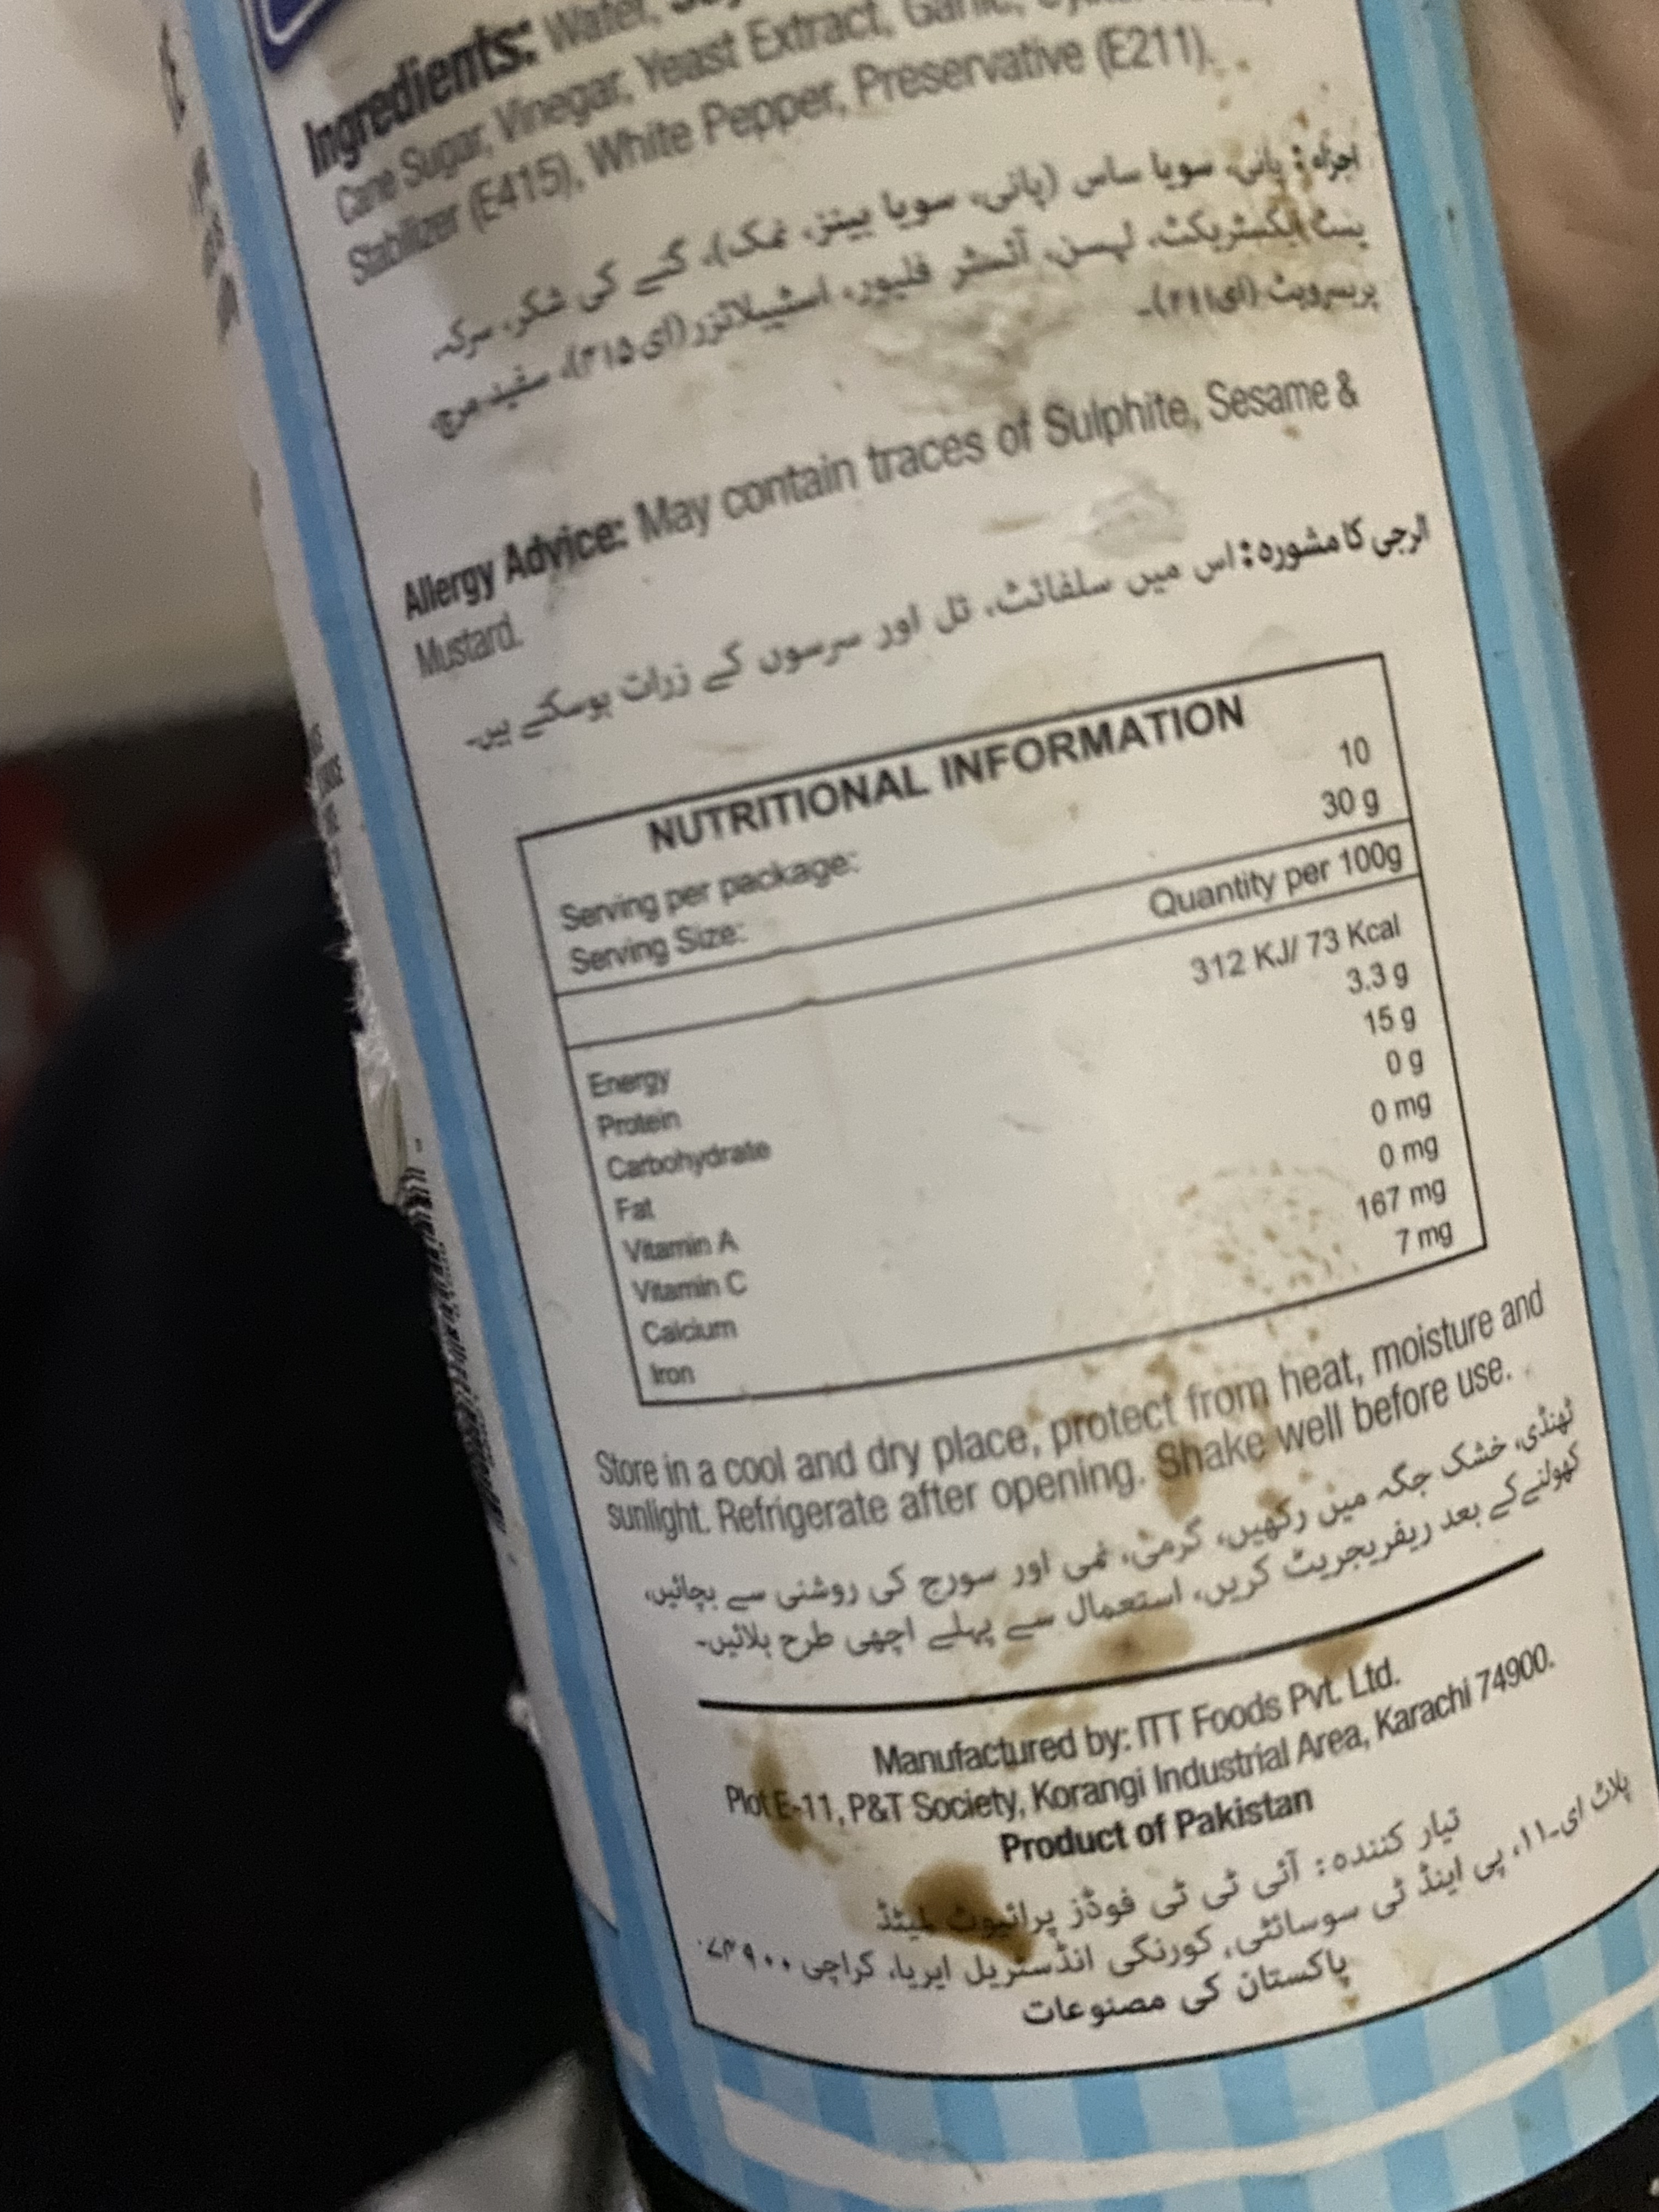table: (516, 646, 1506, 1414)
